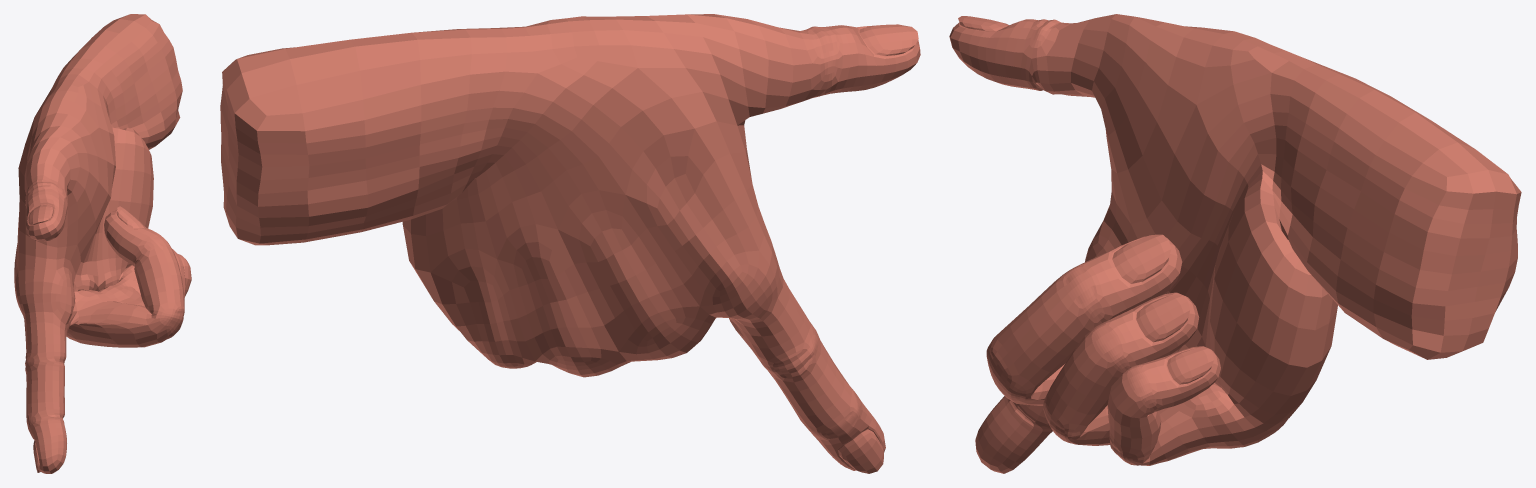
The picture shows the model from 3 angles, left to right: view 1: azimuth 30°, elevation 25°; view 2: azimuth 150°, elevation 25°; view 3: azimuth 270°, elevation 25°; orthographic projection. The views are drawn at different scales.
Parts seen in each view (by area): view 1: ZBrushPolyMesh3D; view 2: ZBrushPolyMesh3D; view 3: ZBrushPolyMesh3D.
Boxes of the visible parts, x1,y1,x2,y2 form: ZBrushPolyMesh3D: (14, 14, 191, 473); ZBrushPolyMesh3D: (220, 14, 920, 473); ZBrushPolyMesh3D: (949, 14, 1521, 473).
Size of the model in its own units: 3.12 by 3.2 by 3.28.
